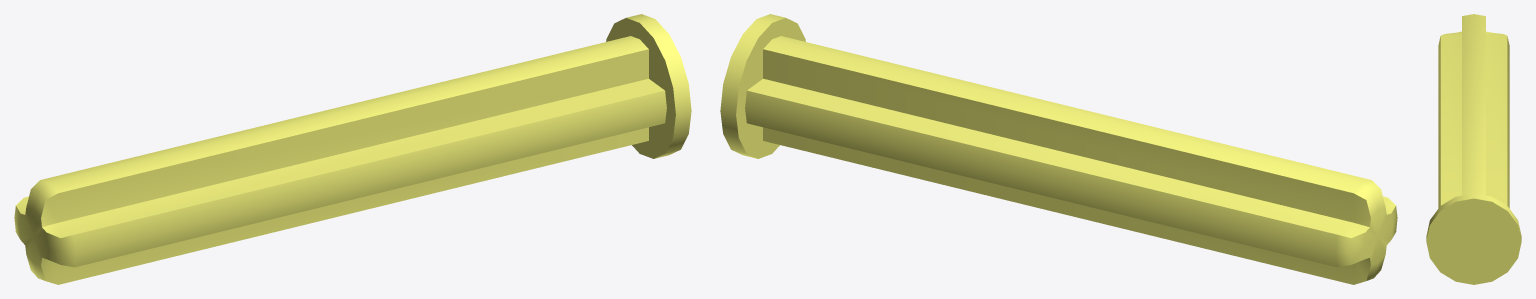
3 renders of one model, left to right at view 1: azimuth 30°, elevation 25°; view 2: azimuth 150°, elevation 25°; view 3: azimuth 270°, elevation 25°, orthographic. The views are drawn at different scales.
Parts seen in each view (by area): view 1: 87083.dat; view 2: 87083.dat; view 3: 87083.dat.
Part boxes in pixels (<box>): 87083.dat: <box>14,14,691,284</box>; 87083.dat: <box>720,14,1397,284</box>; 87083.dat: <box>1426,14,1521,284</box>.
Size of the model in its own units: 0.0318 by 0.0064 by 0.0064.
